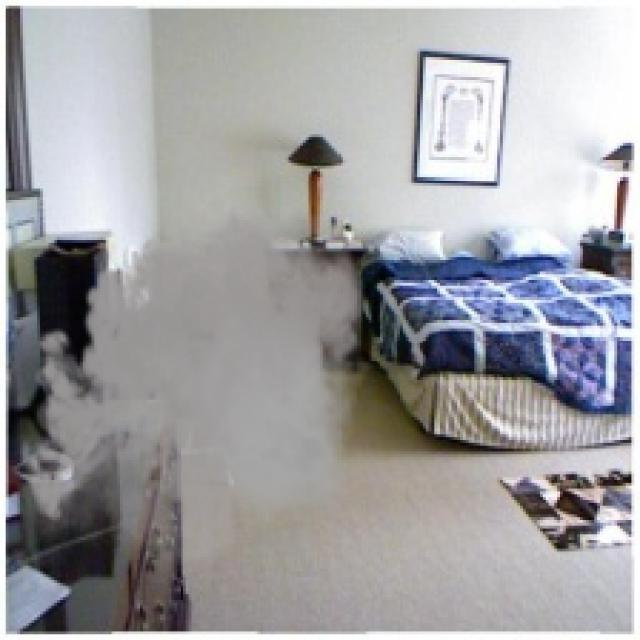Smoke: (14, 183, 377, 586)
